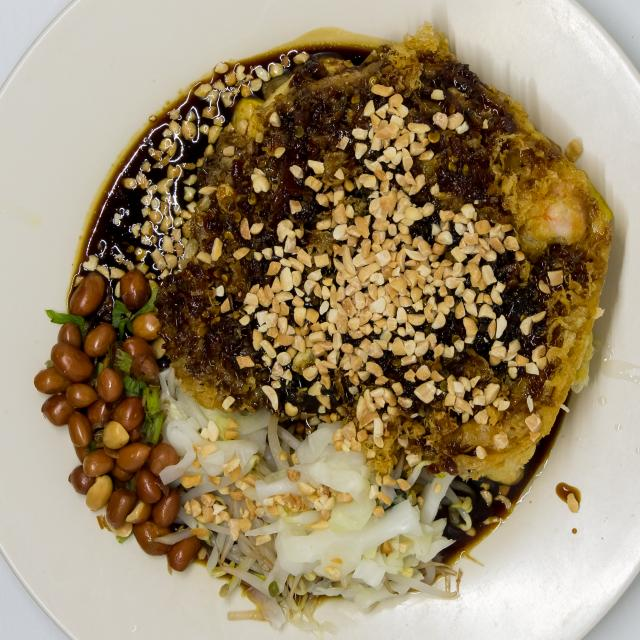Tahu-Telur: (28, 19, 615, 616)
